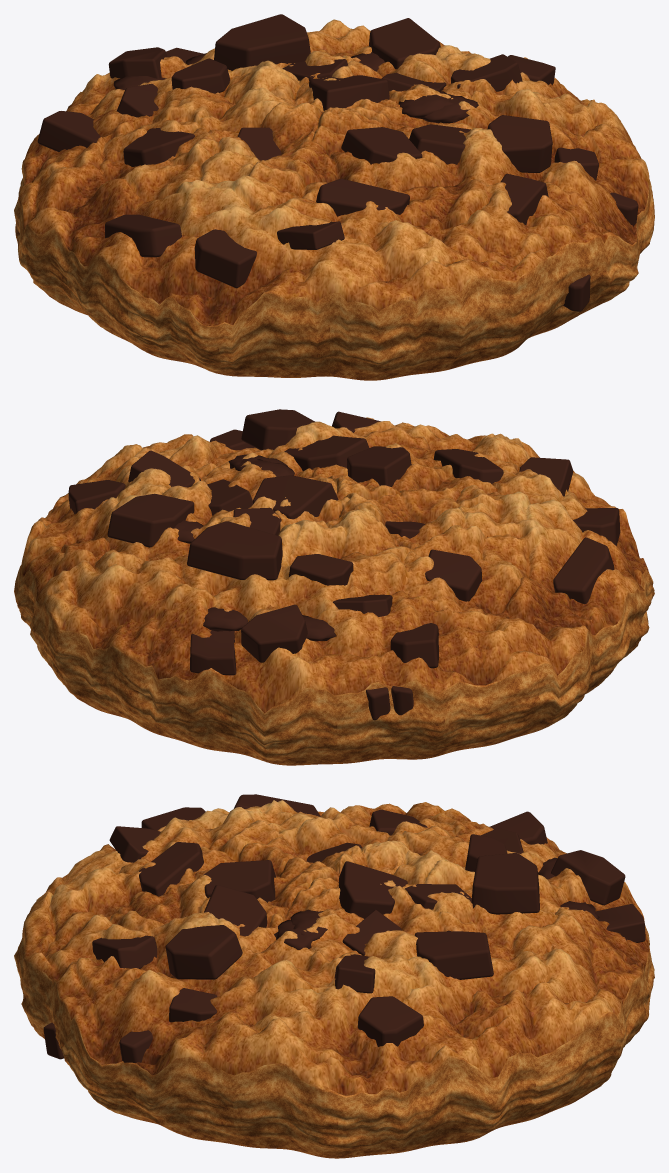
Rendered from tem_choco-chips.glb.
The picture shows the model from 3 angles, top to bottom: view 1: azimuth 30°, elevation 25°; view 2: azimuth 150°, elevation 25°; view 3: azimuth 270°, elevation 25°; orthographic projection. The views are drawn at different scales.
Parts seen in each view (by area): view 1: Baked porous crumb, Dark chocolate; view 2: Baked porous crumb, Dark chocolate; view 3: Baked porous crumb, Dark chocolate.
Part boxes in pixels (x1=…): Baked porous crumb: x1=14, y1=19, x2=654, y2=380; Dark chocolate: x1=34, y1=14, x2=638, y2=311; Baked porous crumb: x1=14, y1=417, x2=654, y2=765; Dark chocolate: x1=68, y1=409, x2=620, y2=720; Baked porous crumb: x1=14, y1=800, x2=654, y2=1158; Dark chocolate: x1=43, y1=794, x2=645, y2=1062.
Bounding box in the file's own units: 0.093 × 0.0274 × 0.0903.
3 materials, 2 textured.
